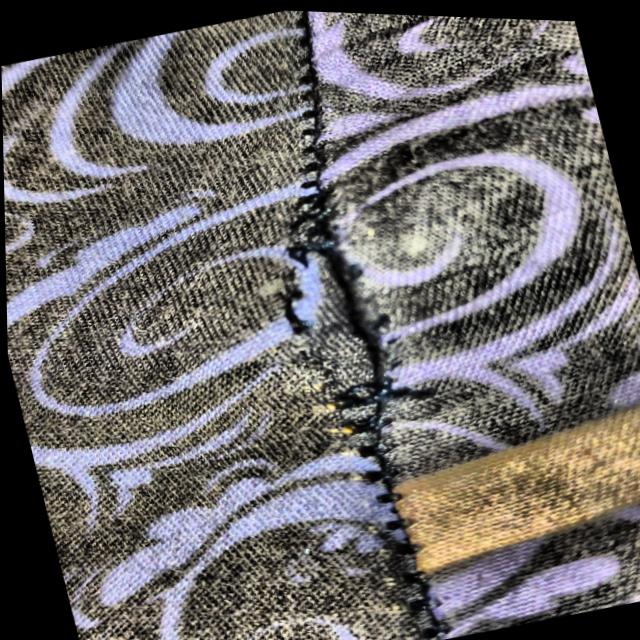seam: (186, 126, 520, 569)
